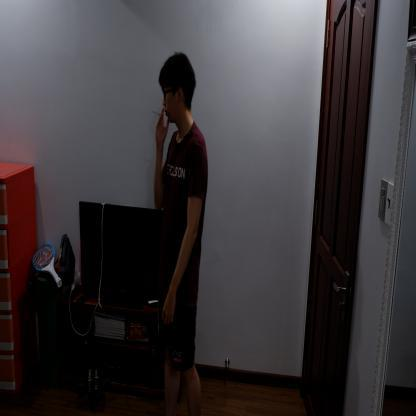cigarette: (152, 109, 160, 116)
person: (152, 47, 210, 416)
